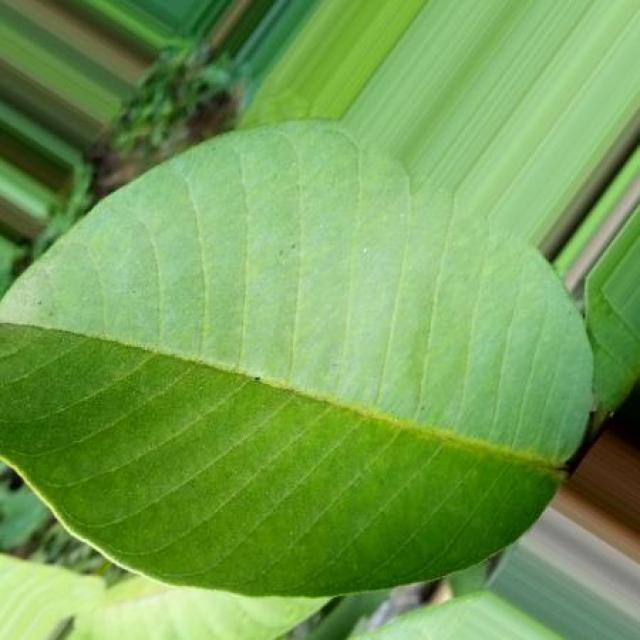Disease Free: (0, 122, 591, 594)
